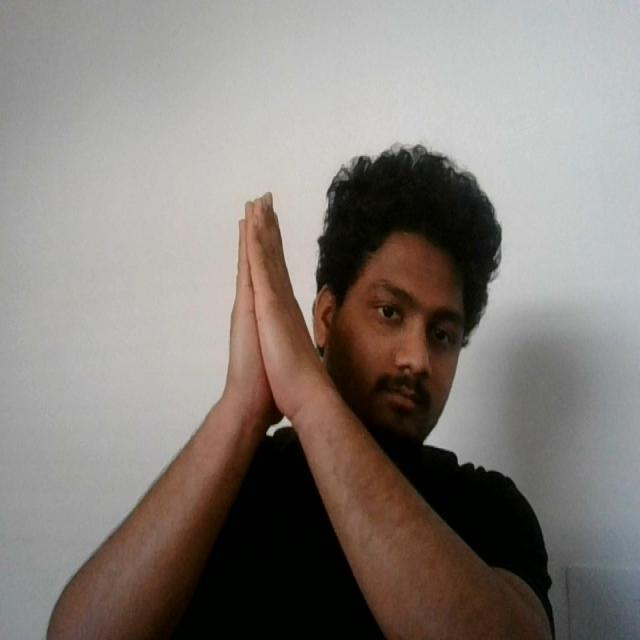Thanks: (216, 186, 325, 432)
